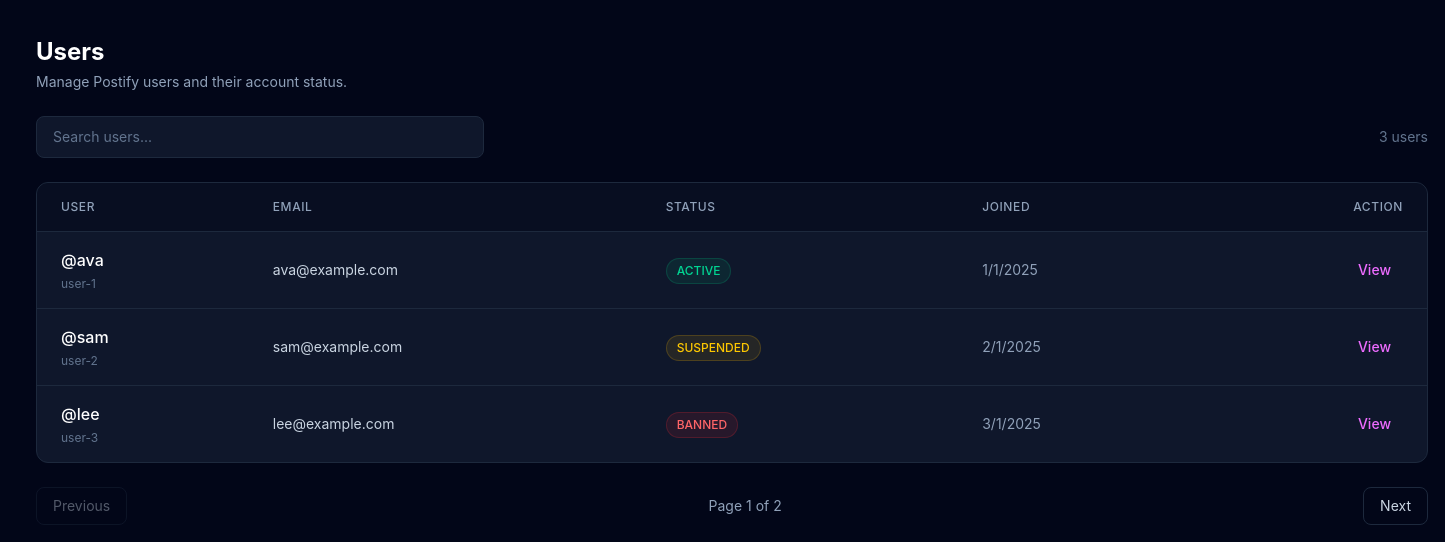
Test: AdminUsersPage › searches from the first page, paginates, and opens selected users
Expected: the text "3 users" is shown, [1379,127,1428,147]
Expected: the text "Page 1 of 2" is shown, [708,496,782,516]
Click the button "Next" at {"x": 1396, "y": 506}, box [1363,487,1428,525]
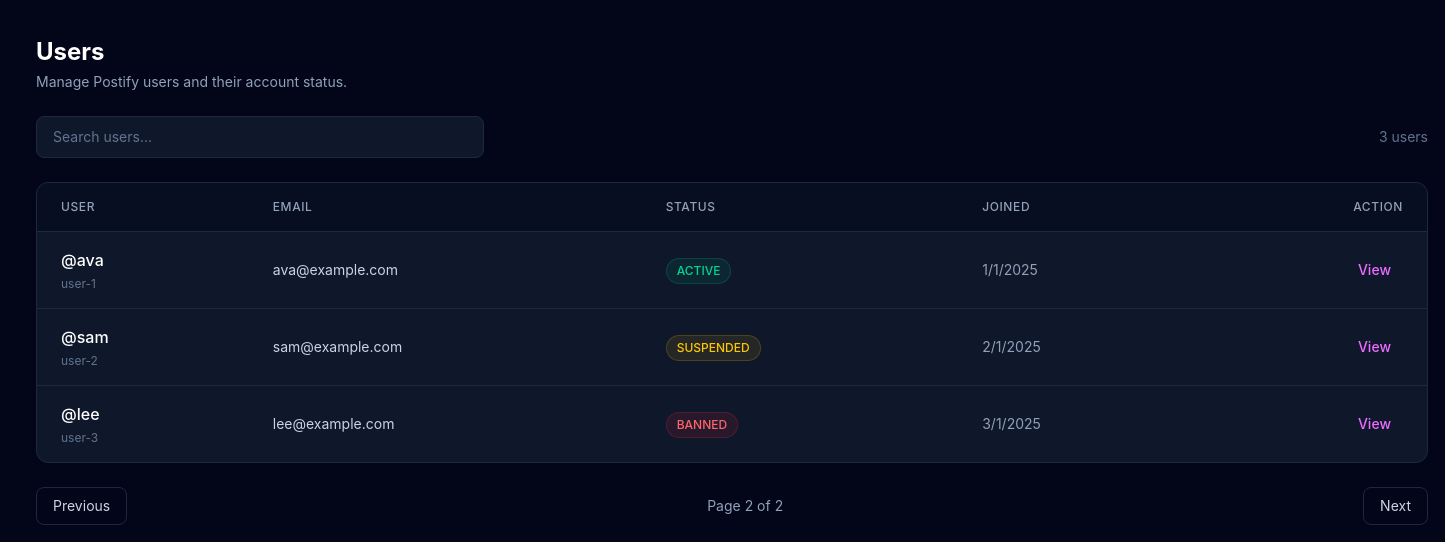
Type "ava" into the field with placeholder "Search users..." at {"x": 260, "y": 137}, box [36,116,484,158]
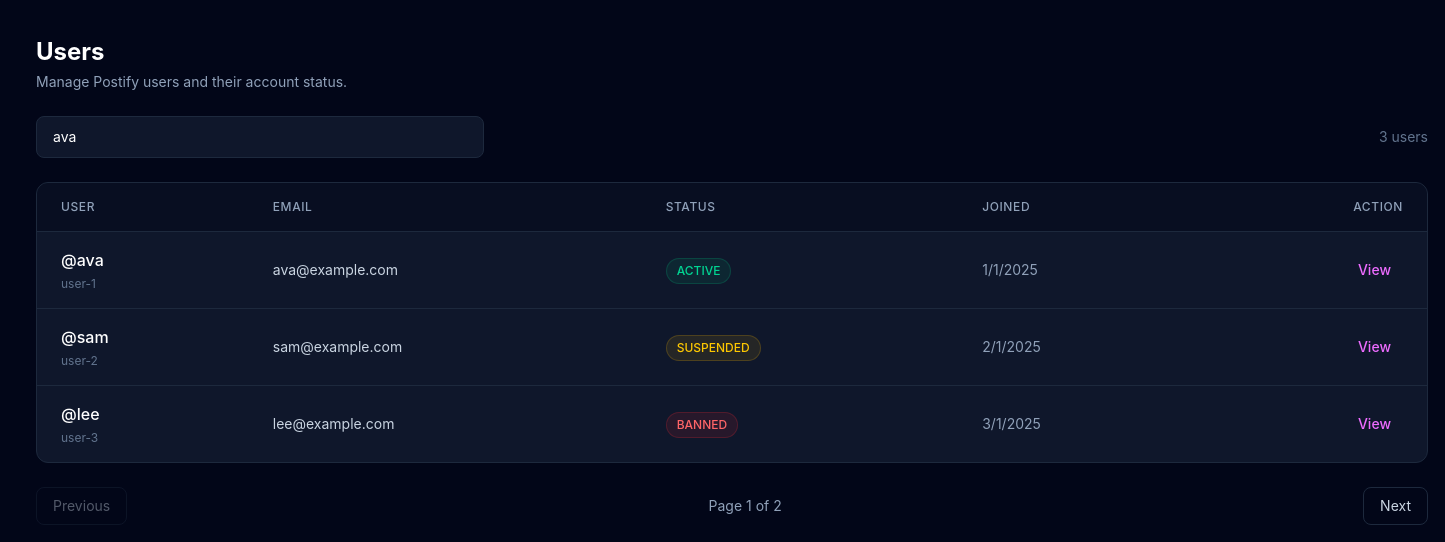
Click the button "View" in the row of "user-1" at {"x": 1374, "y": 270}, box [1346,252,1403,288]
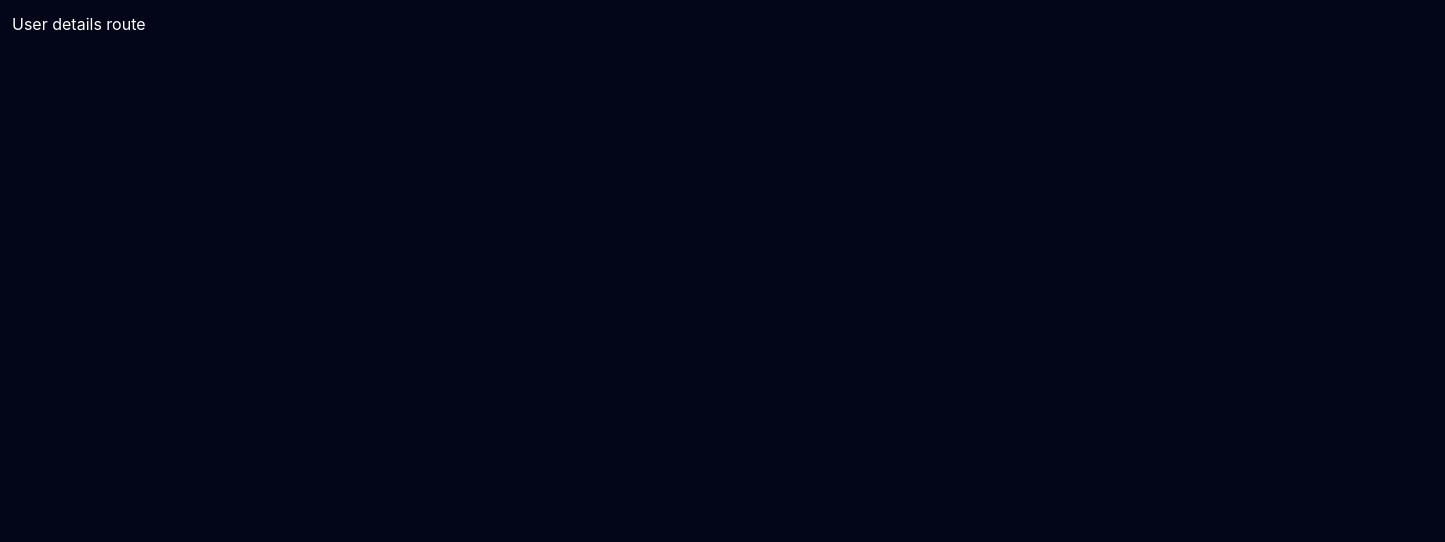
Now the text "User details route" is shown, box [12,14,146,34]
